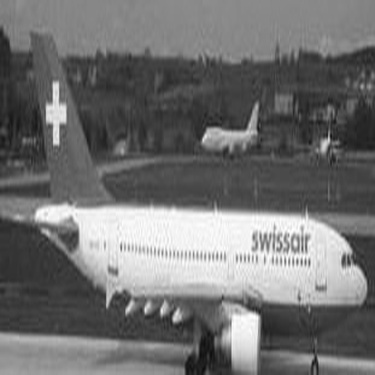airplane: (9, 25, 374, 372), (194, 95, 271, 164), (302, 121, 347, 177)
